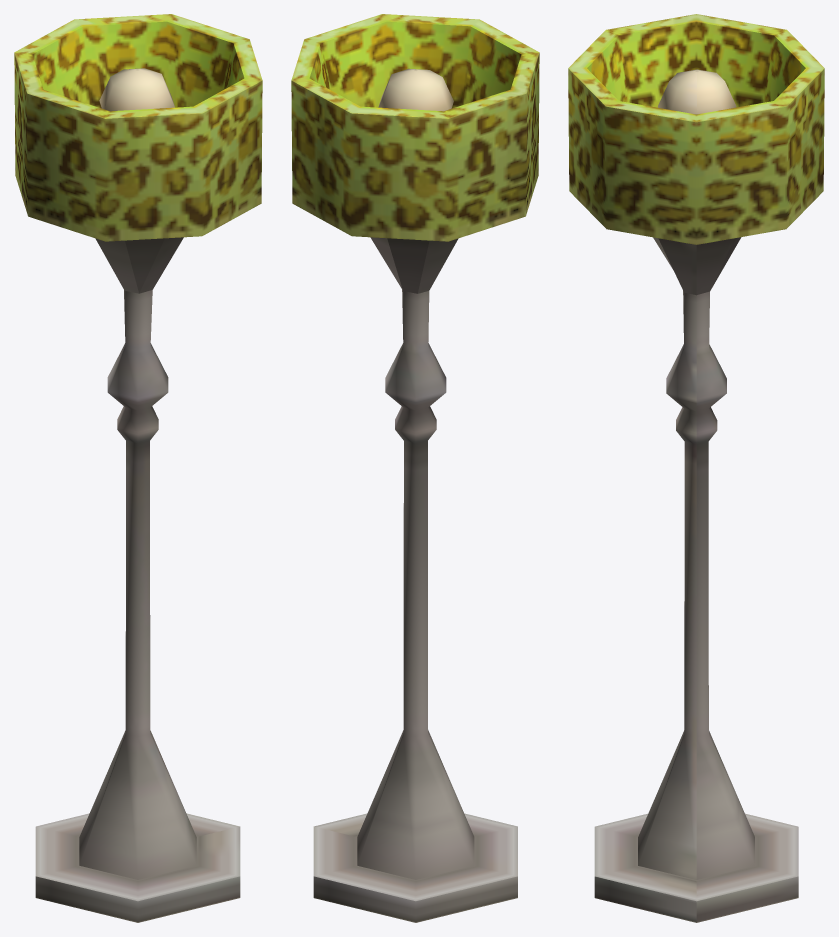
The model's file is furni_0200085_01.FBX.
The picture shows the model from 3 angles, left to right: view 1: azimuth 30°, elevation 25°; view 2: azimuth 150°, elevation 25°; view 3: azimuth 270°, elevation 25°; orthographic projection.
Parts seen in each view (by area): view 1: furni_0200085_01; view 2: furni_0200085_01; view 3: furni_0200085_01.
Boxes of the visible parts, <box> form: furni_0200085_01: <box>14,14,262,922</box>; furni_0200085_01: <box>291,14,539,922</box>; furni_0200085_01: <box>568,14,824,922</box>.
Bounding box in the file's own units: 47.24 × 164 × 47.24.
1 material, 1 textured.
